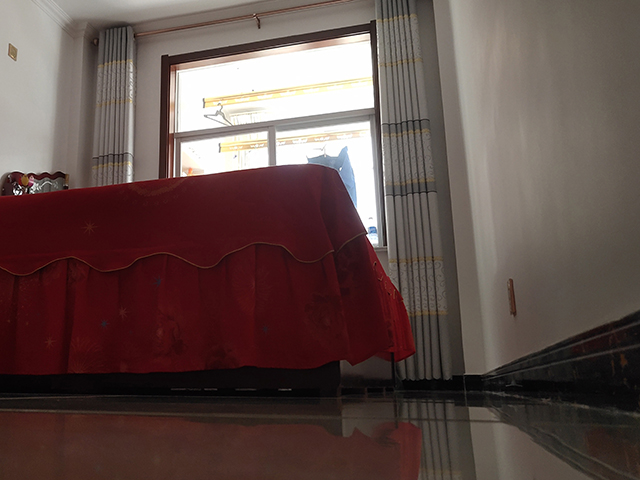bed: (1, 162, 418, 398)
curtain: (373, 1, 455, 383), (89, 23, 135, 182)
